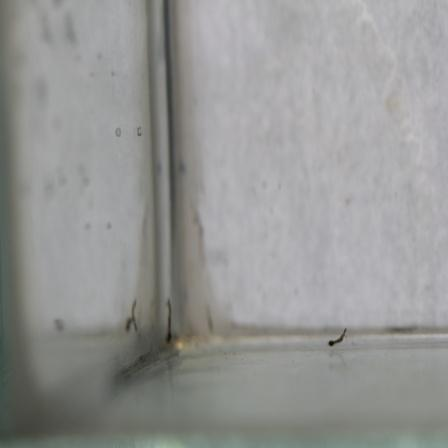Jentik-Nyamuk: (324, 324, 354, 352)
